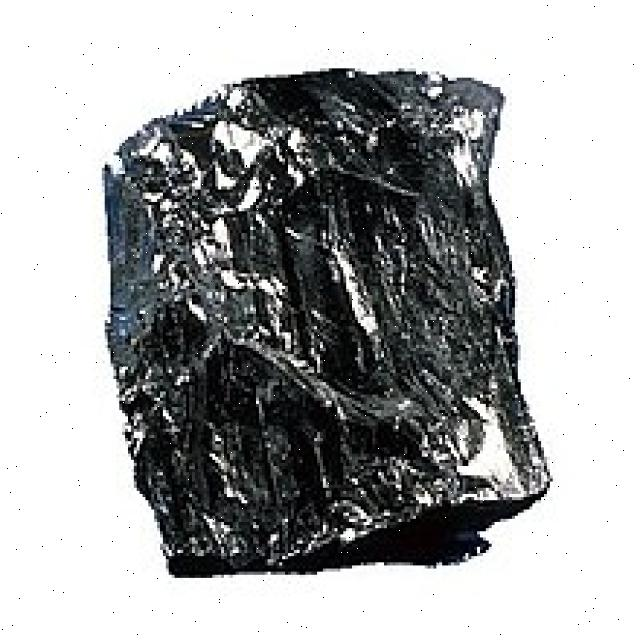Sedimentary: (93, 65, 559, 584)
